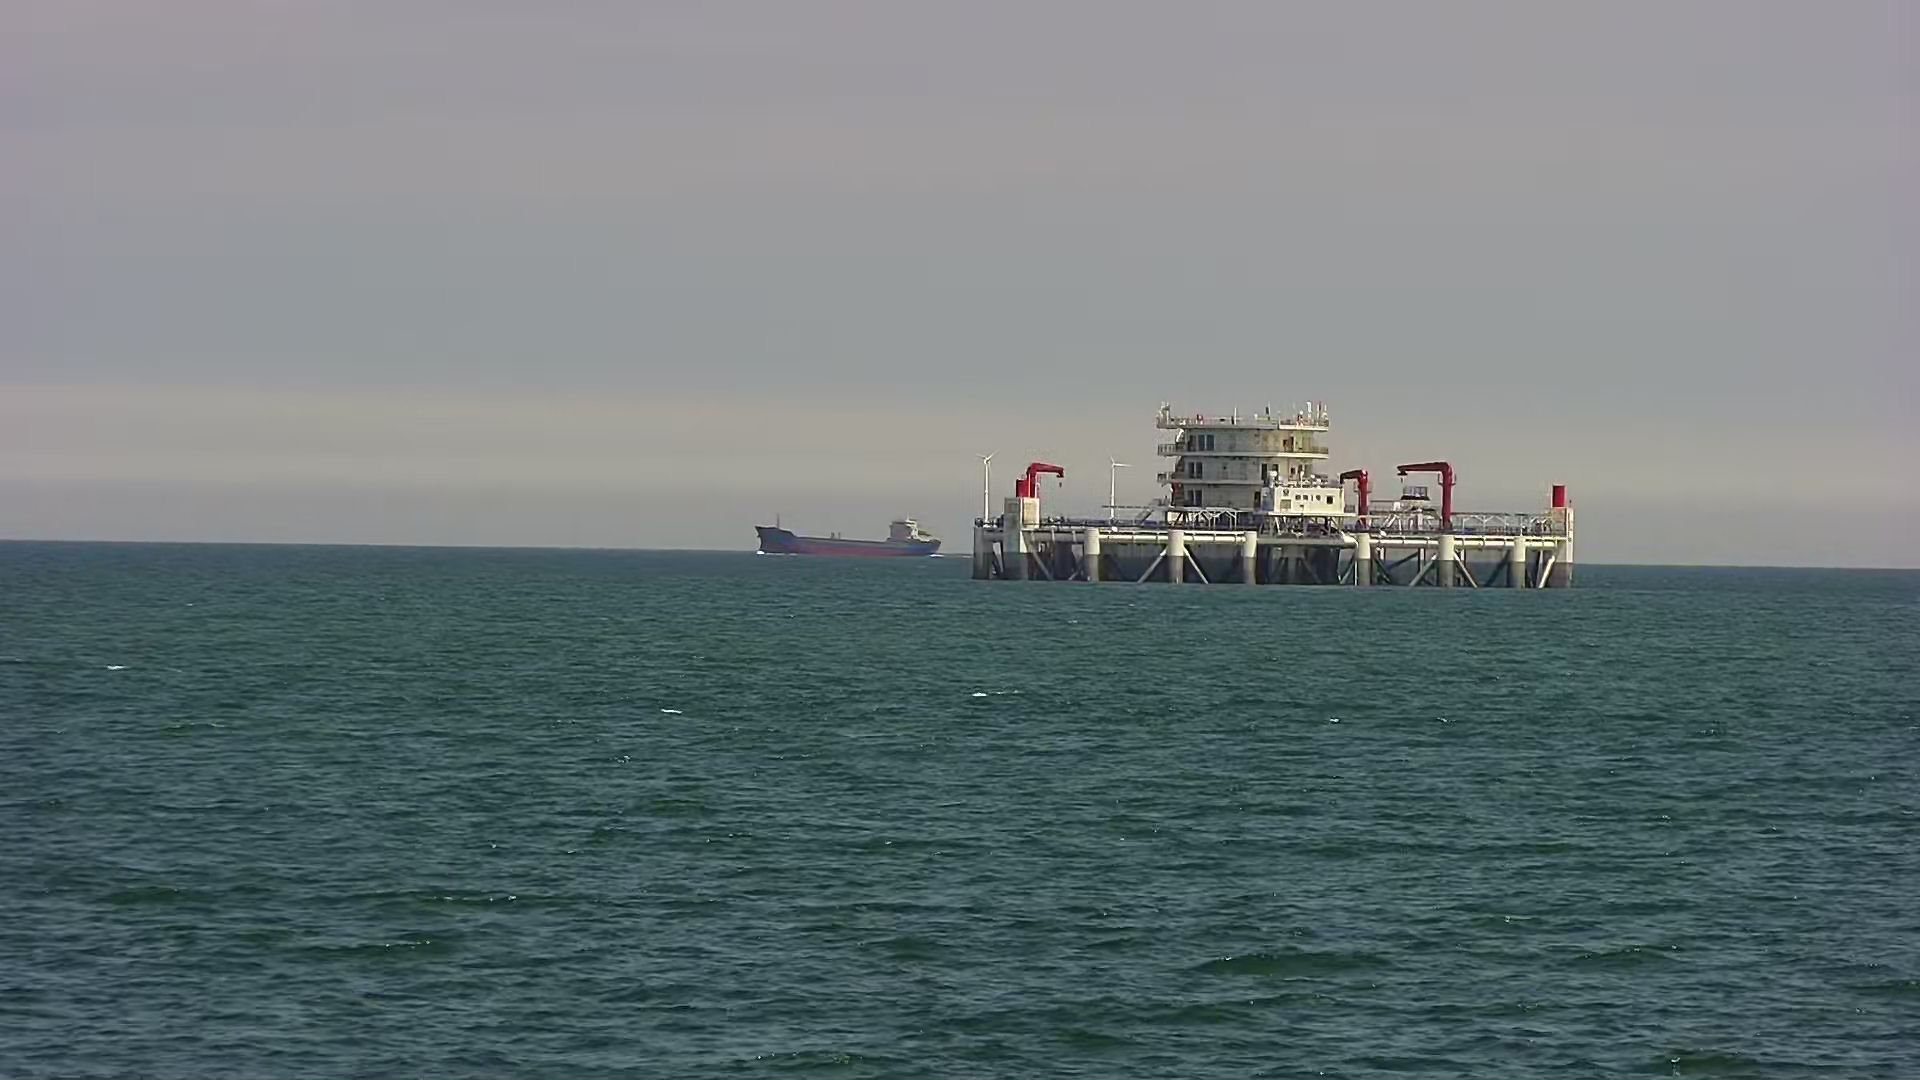platform: (952, 390, 1617, 603)
ship: (748, 508, 943, 564)
